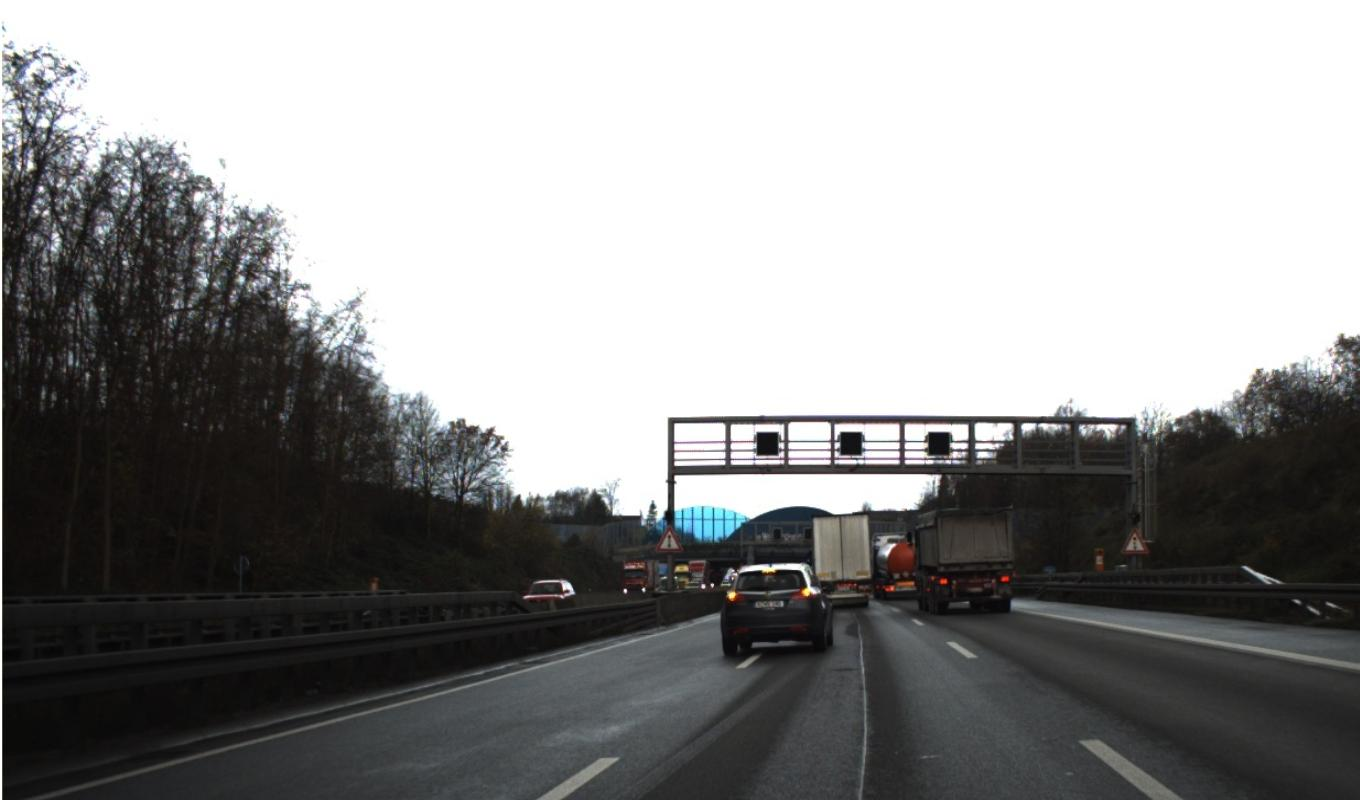traffic signal: (653, 524, 1148, 553)
